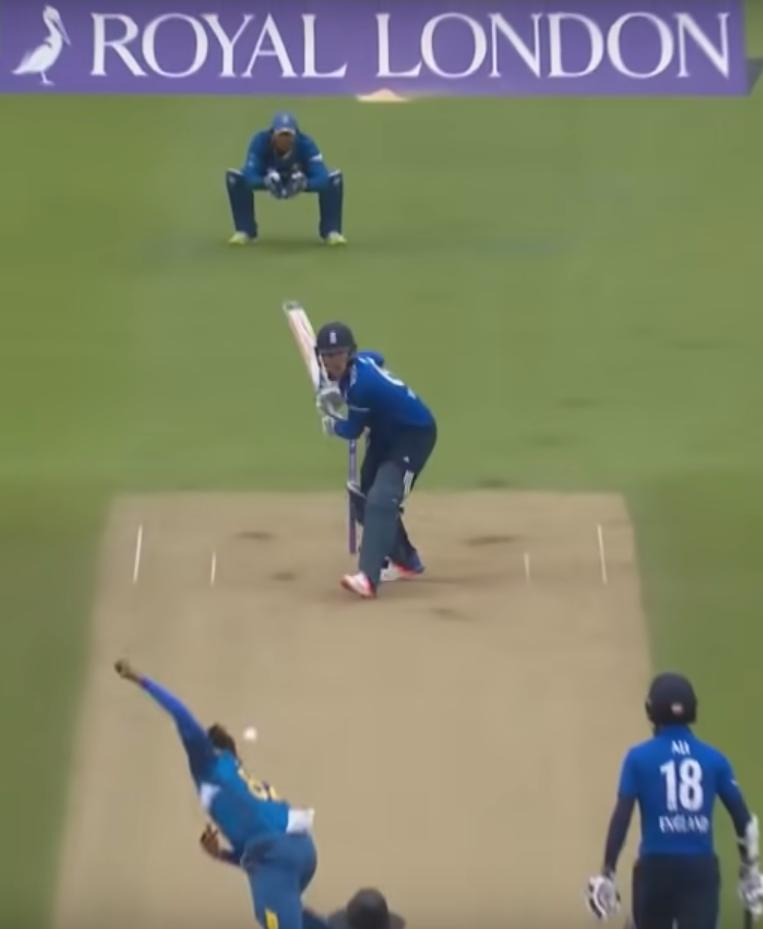Cricket-Ball: (235, 719, 268, 748)
